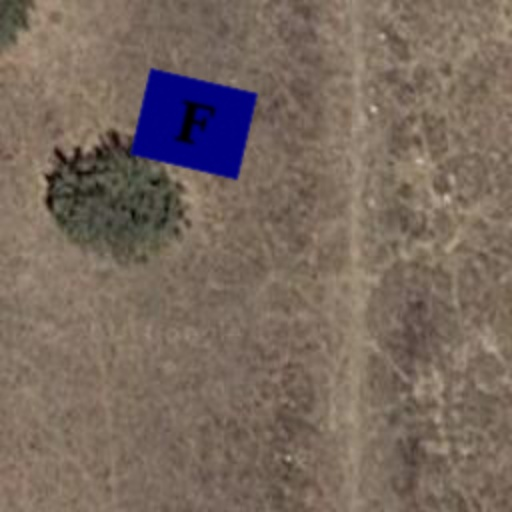rectangle: (126, 56, 262, 192)
